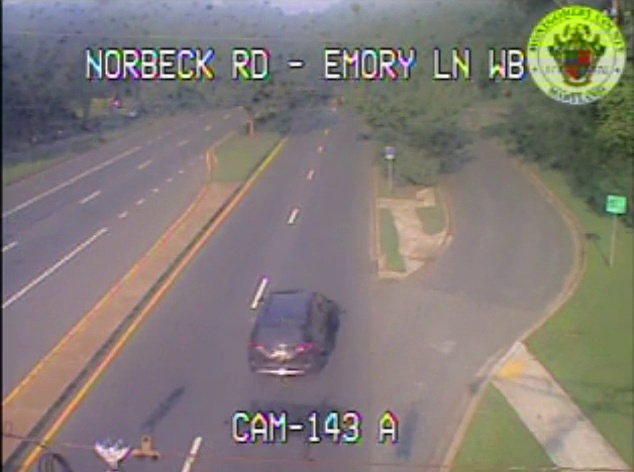car: (249, 290, 324, 378)
